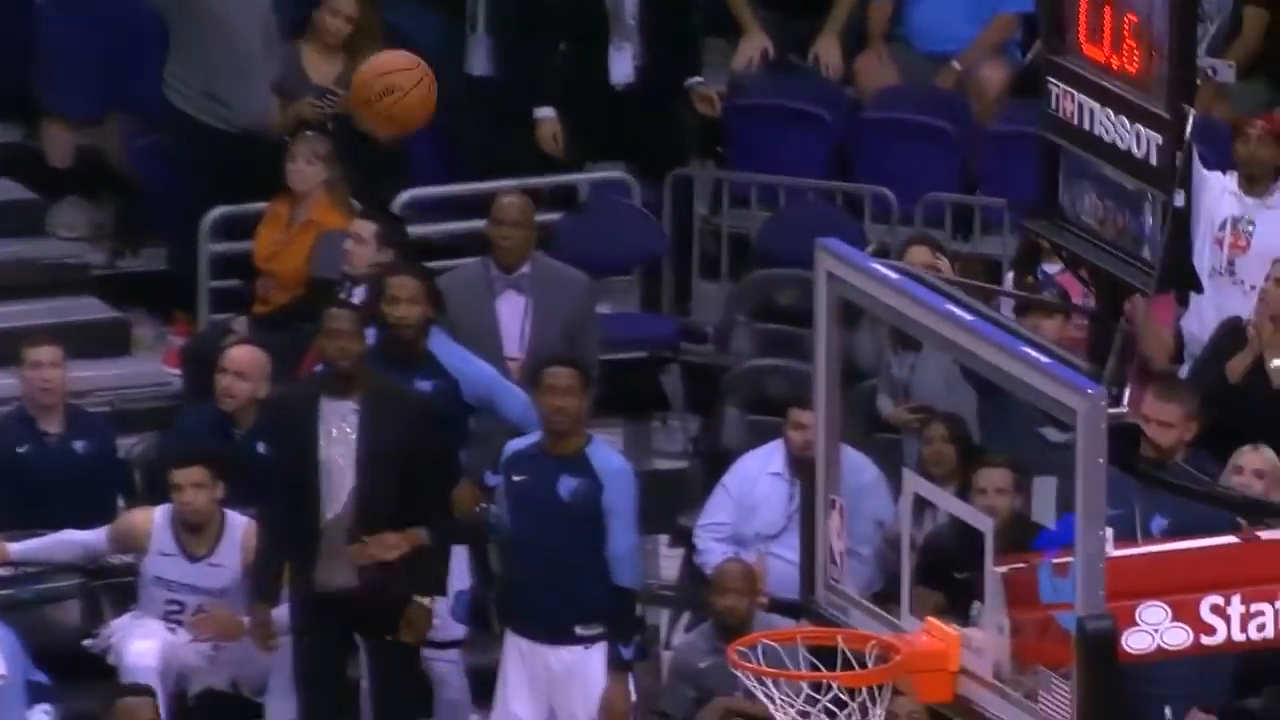ball: (345, 48, 440, 136)
